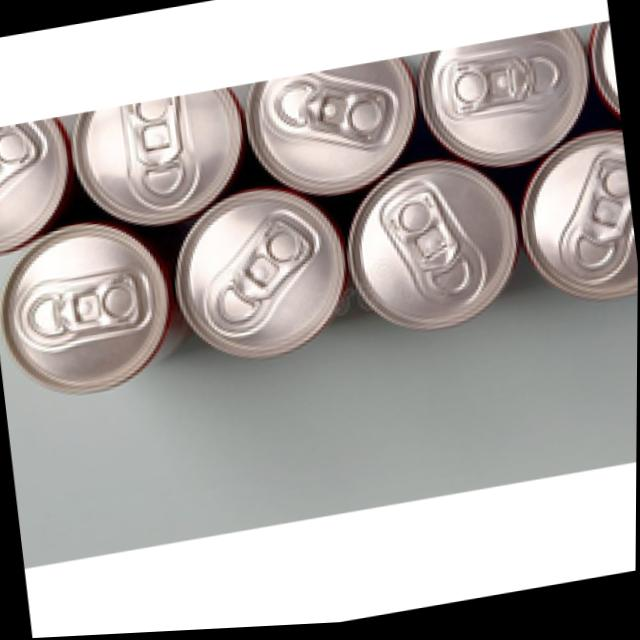aluminum_soda_cans: (166, 192, 360, 381), (341, 150, 532, 340), (0, 218, 185, 403), (249, 55, 431, 199), (72, 89, 247, 220), (425, 36, 595, 164), (518, 148, 639, 309), (0, 113, 86, 241), (582, 24, 622, 133)
